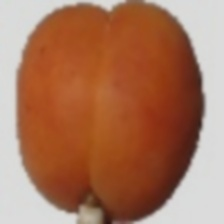apricot: (44, 39, 212, 180)
